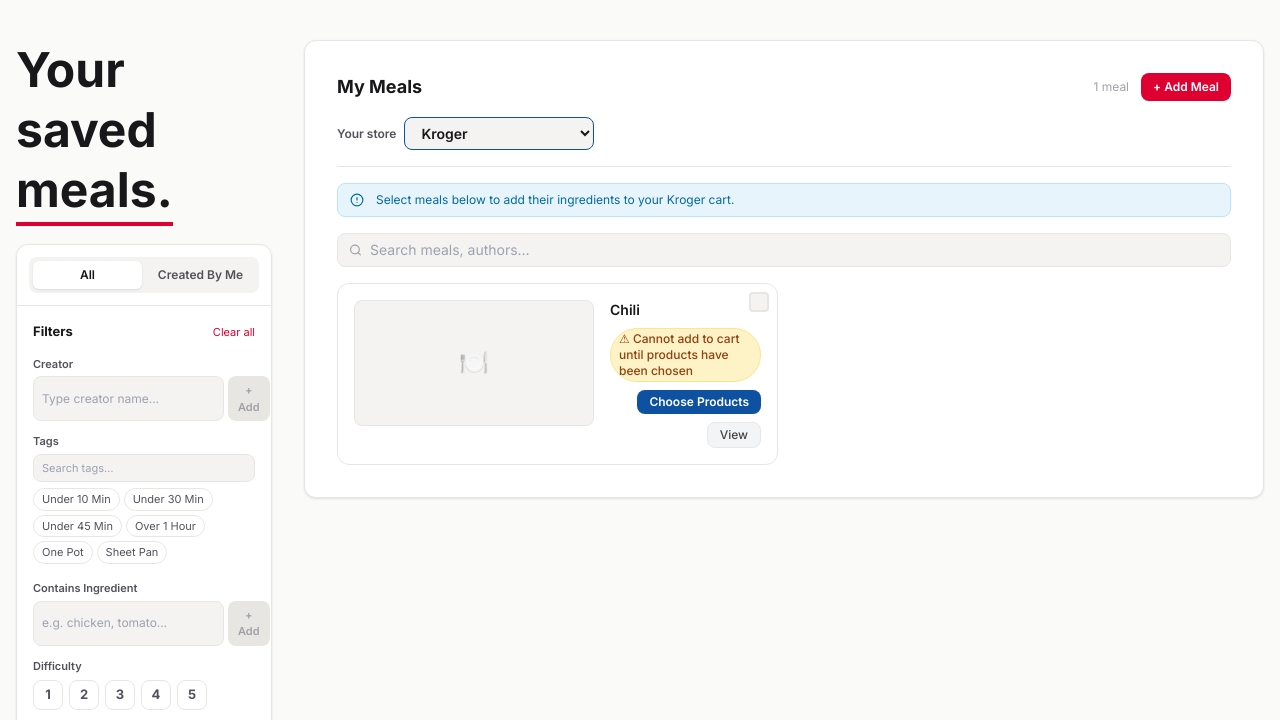
Test: an explanation for a search the user has replaced › stops claiming the store cannot fulfil it once a re-search finds products it can
Step 1. Click the button "Choose Products" → (699, 402), box [637,390,761,414]
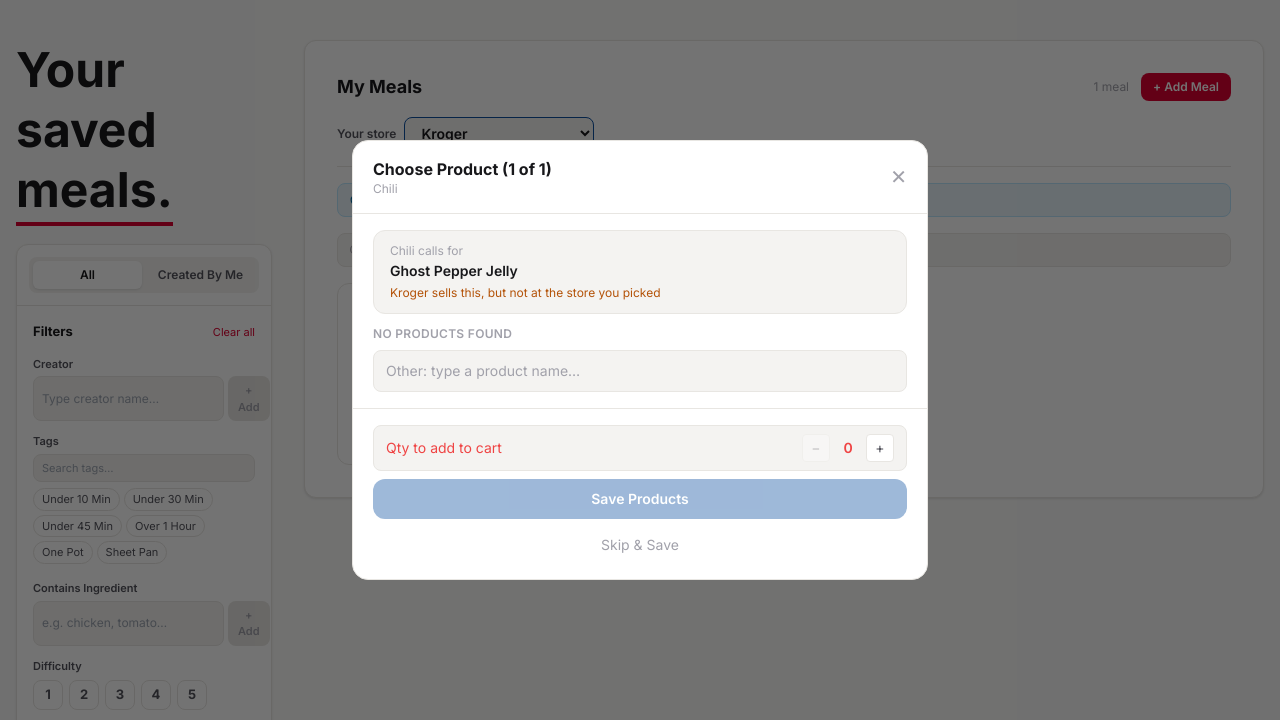
expect the heading "Choose Product (1 of 1)" is shown: met, box [373,157,552,181]
expect the text "Kroger sells this, but not at the store you picked" is shown: met, box [390,285,660,300]
Step 2. Click the button "Other: type a product name…" → (483, 370), box [373,350,907,392]
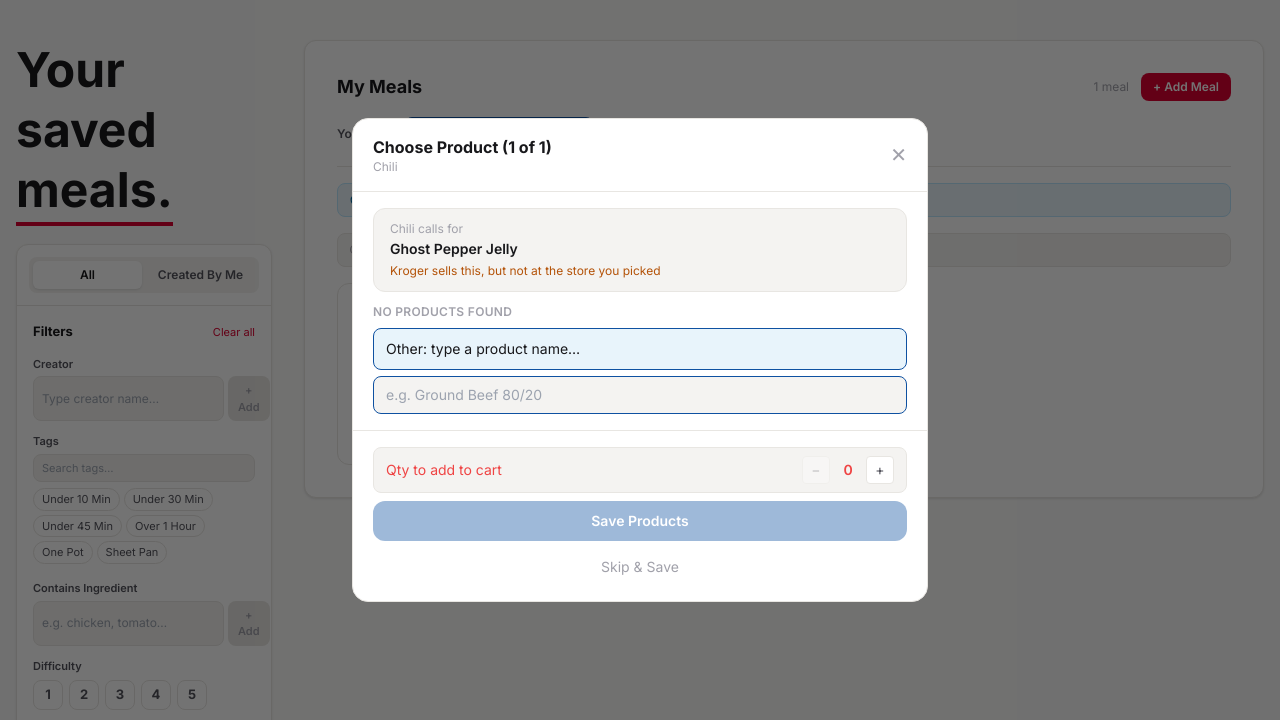
Step 3. Type "pepper jelly" into the field with placeholder "e.g. Ground Beef 80/20" → (640, 395), box [373,376,907,414]
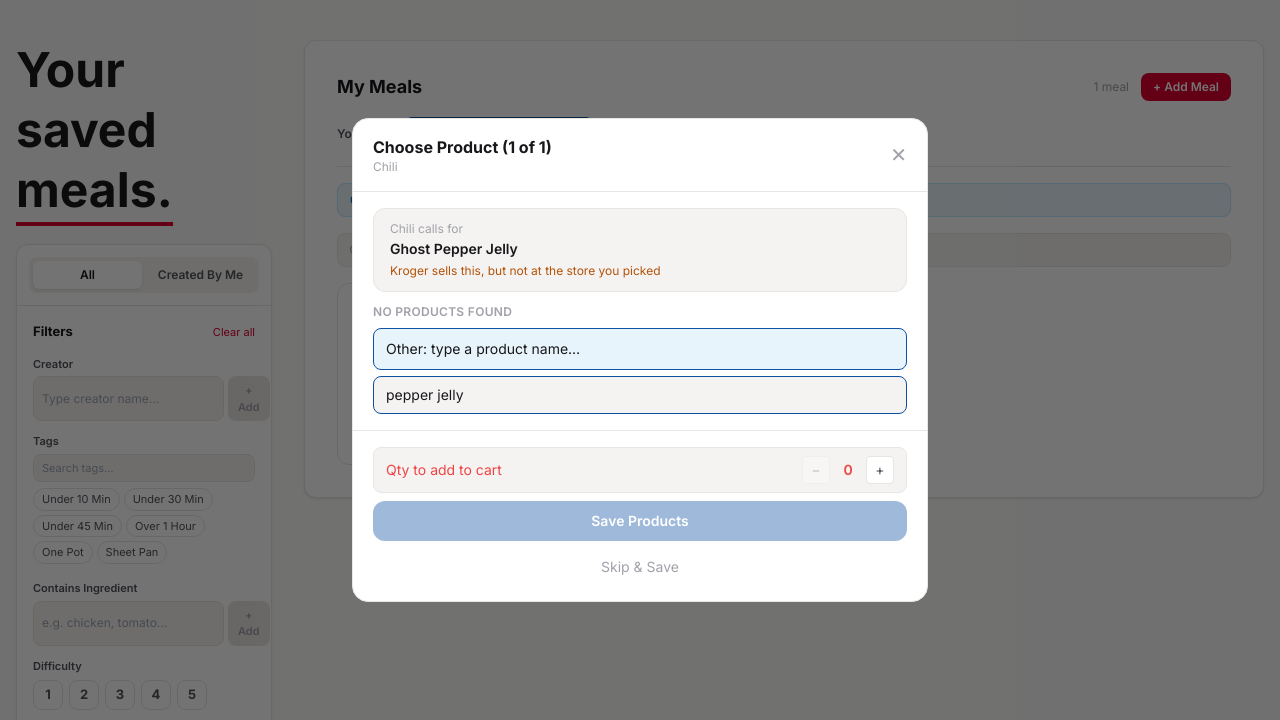
Step 4. Click the button "+" → (880, 470), box [866,456,894,484]
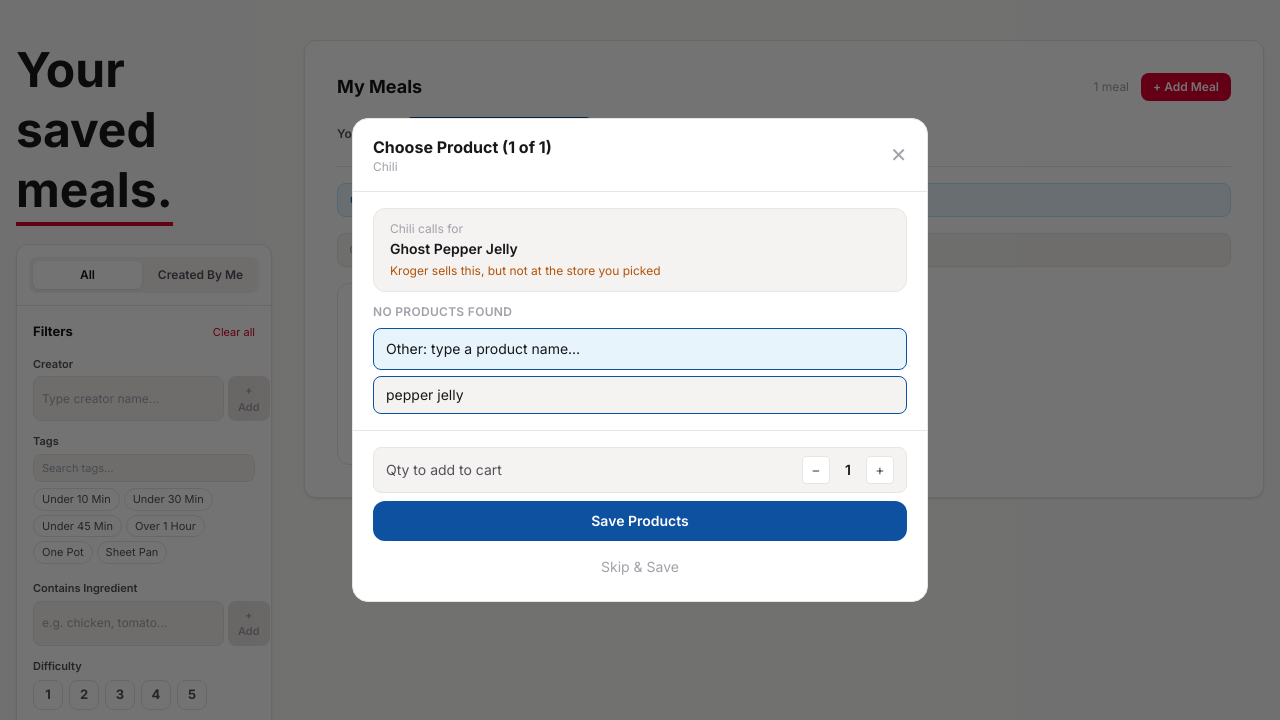
Step 5. Click the button "Save Products" → (640, 521), box [373,501,907,541]
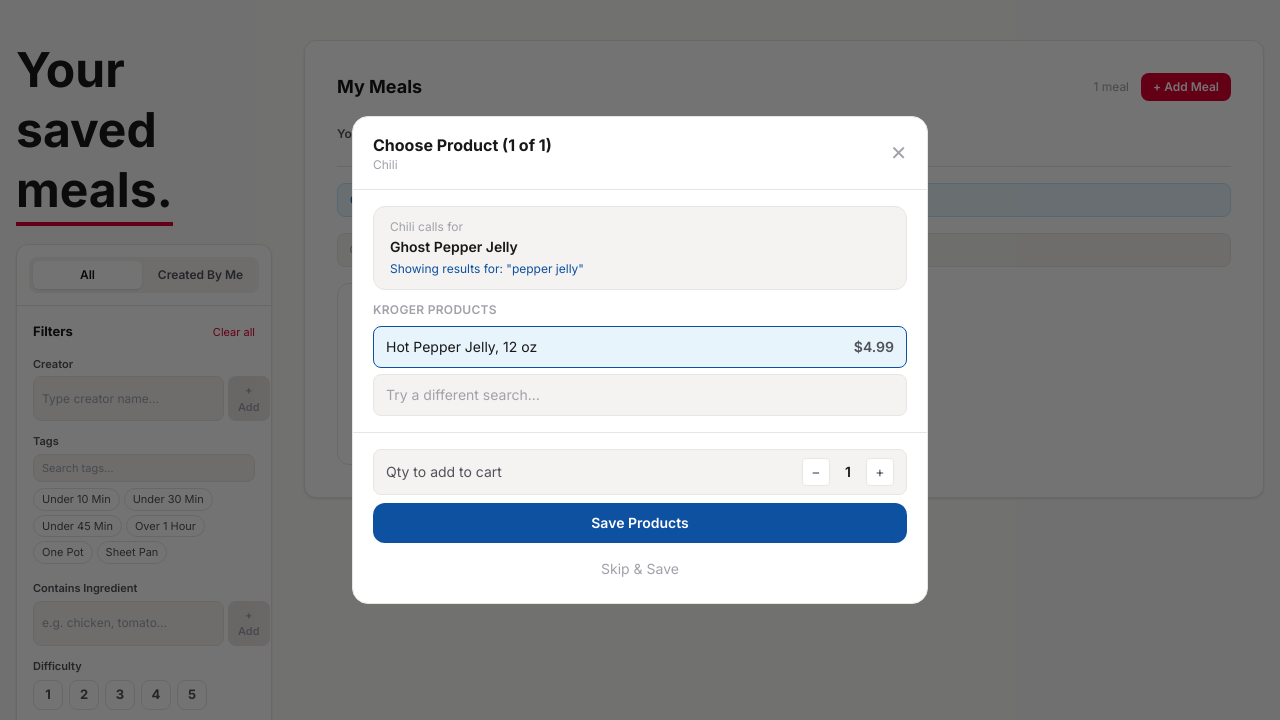
expect the text "Hot Pepper Jelly, 12 oz" is shown: met, box [386,337,537,357]
expect the text "sells this, but not at the store you picked" is gone: met
